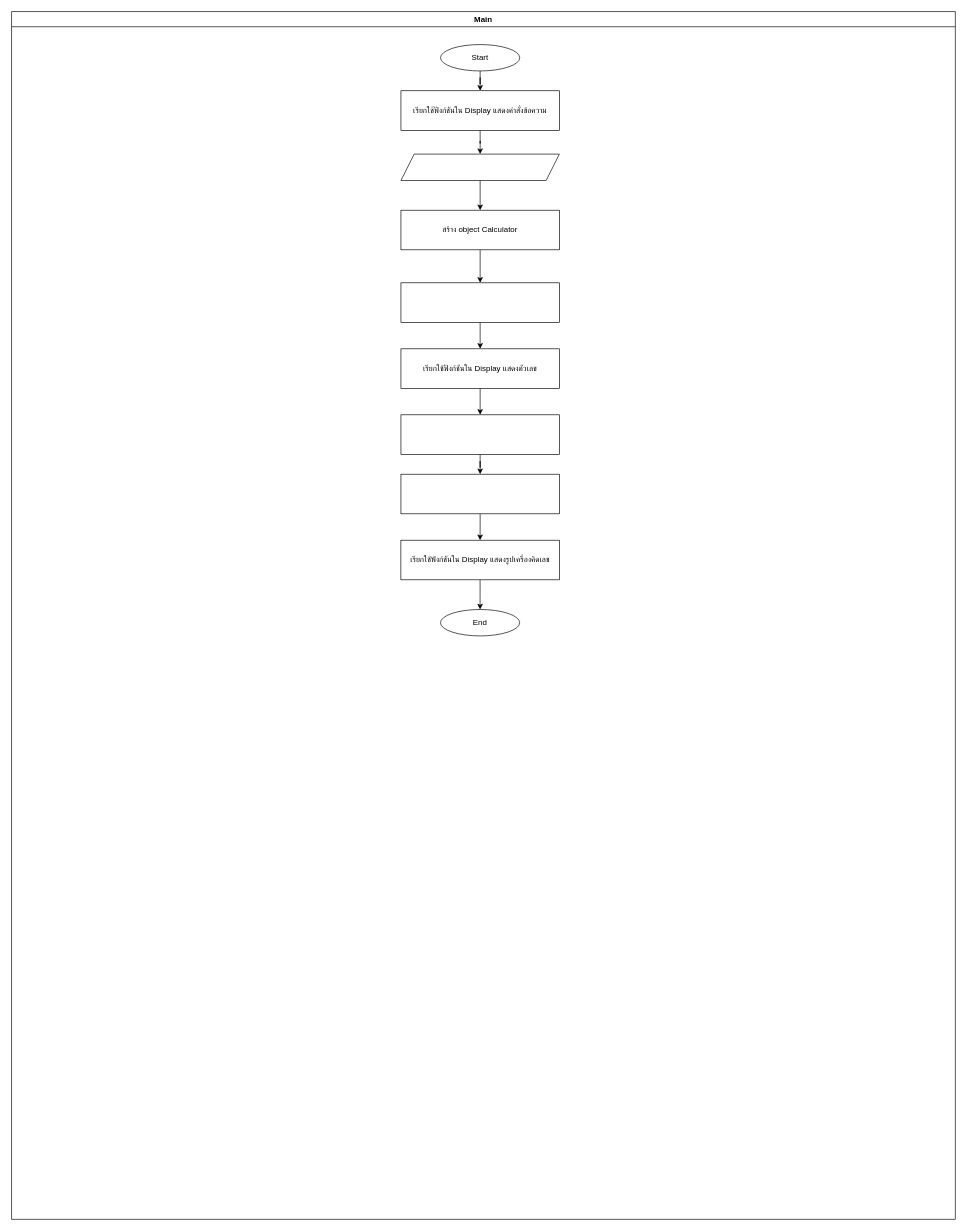
Image size: 967x1231. Some labels were removed from this diagram. The shapes that lost their labels are listed below. From the top down, each one's centre as x and y in pixels, then its label:
At [479,167]: "รับค่า text cal".
At [479,302]: "เรียกใช้ฟังก์ชันใน Calculator รับค่าผลลัพธ์".
At [479,434]: "เรียกใช้ฟังก์ชันใน Display แสดงเครื่องหมาย".
At [479,494]: "เรียกใช้ฟังก์ชันใน Display แสดงผลลัพธ์".
